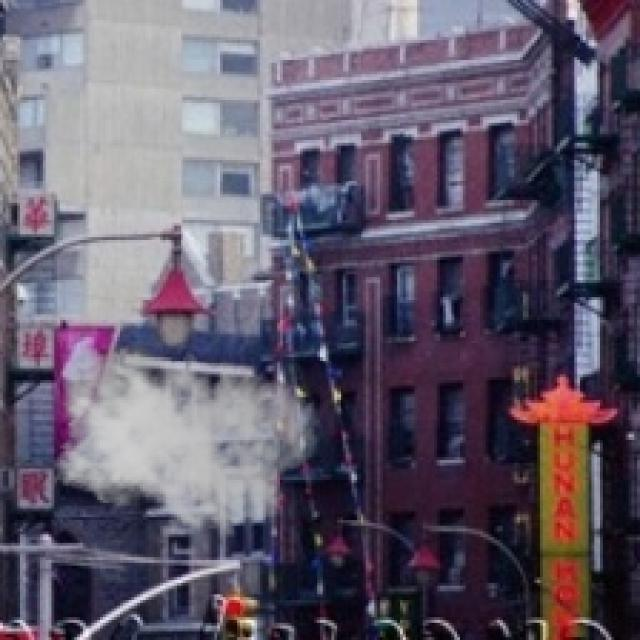Smoke: (46, 337, 320, 537)
